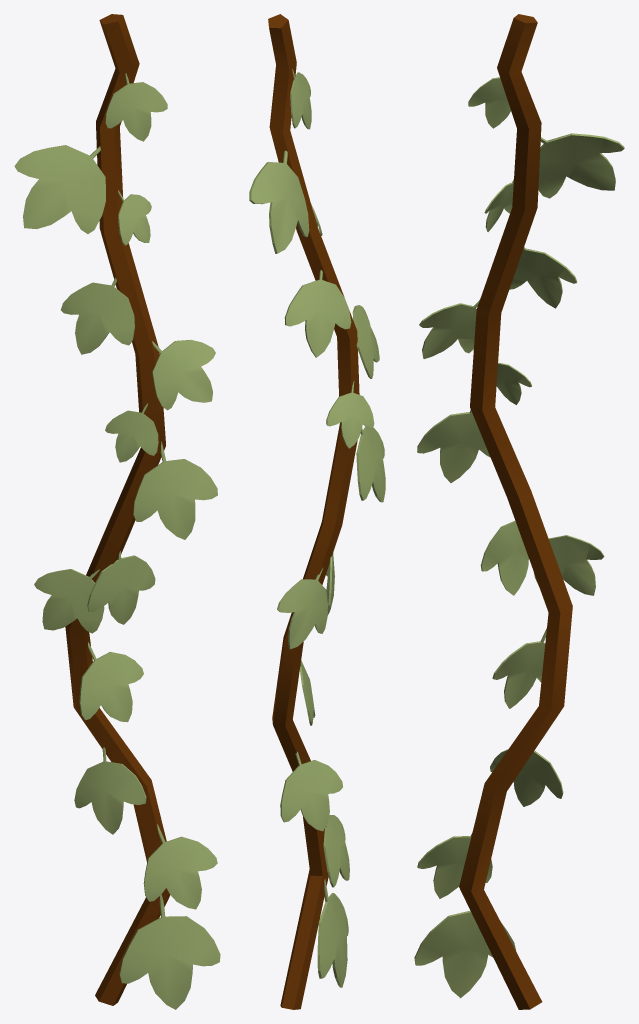
File: vineVine_Style_1.fbx
The picture shows the model from 3 angles, left to right: view 1: azimuth 90°, elevation 25°; view 2: azimuth 150°, elevation 25°; view 3: azimuth 270°, elevation 25°; orthographic projection.
Parts seen in each view (by area): view 1: Vine_Style_1; view 2: Vine_Style_1; view 3: Vine_Style_1.
Part boxes in pixels (x1,y1,x2,y2): Vine_Style_1: (14,14,220,1009); Vine_Style_1: (249,14,385,1009); Vine_Style_1: (414,14,624,1009).
Size of the model in its own units: 0.1962 by 2.2 by 0.4197.
